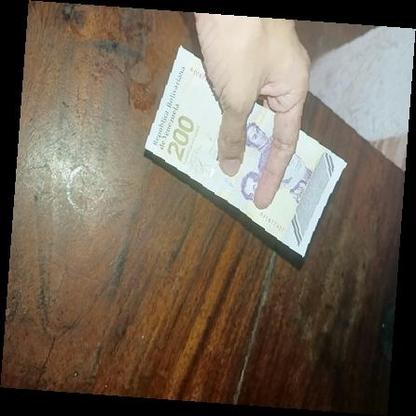two_hundred-front-vef: (142, 43, 348, 257)
